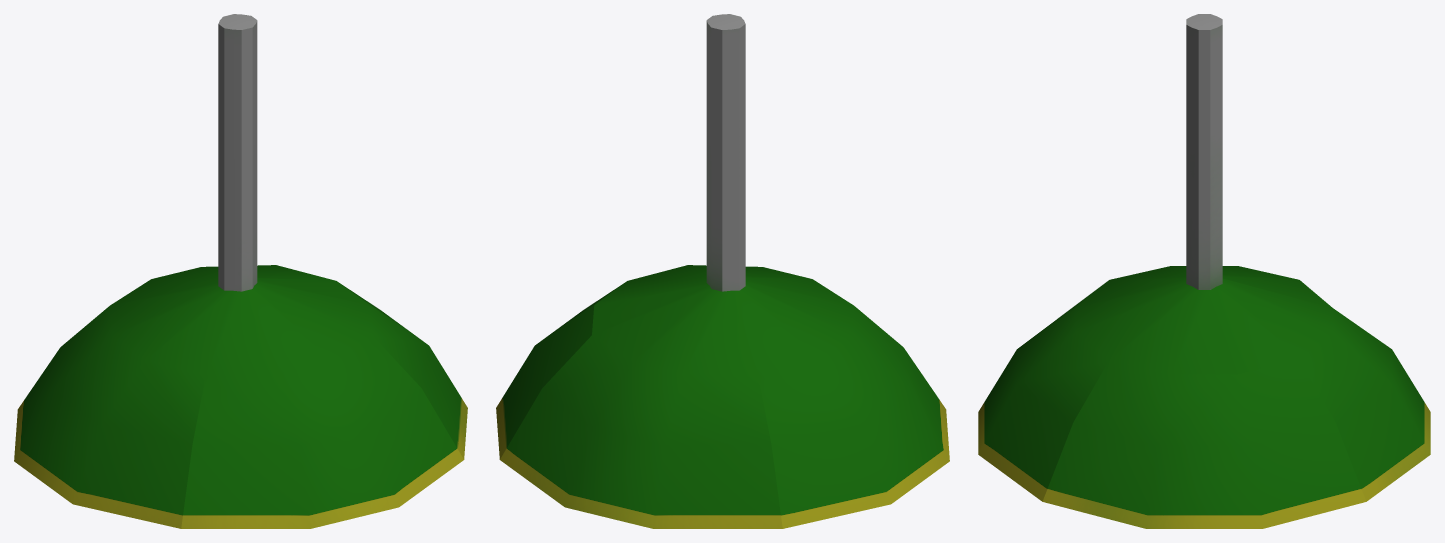
File: hangingLight.fbx
3 renders of one model, left to right at view 1: azimuth 30°, elevation 25°; view 2: azimuth 150°, elevation 25°; view 3: azimuth 270°, elevation 25°, orthographic.
Parts seen in each view (by area): view 1: ceiling_light; view 2: ceiling_light; view 3: ceiling_light.
Boxes of the visible parts, <box> form: ceiling_light: <box>14,14,467,528</box>; ceiling_light: <box>496,14,949,528</box>; ceiling_light: <box>978,14,1430,528</box>.
Size of the model in its own units: 2.54 by 2.54 by 2.54.
Materials: 1 (1 with a texture image).
